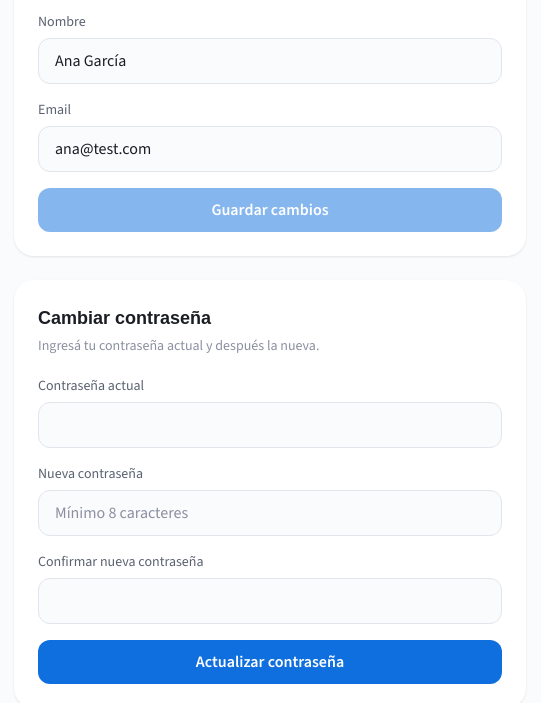
Scenario: Settings — cambiar contraseña › muestra error específico cuando la contraseña actual es incorrecta
(page scrolled)
Step 1. Type "incorrecta" into the password field labelled "Contraseña actual" → (270, 425), box [38, 402, 502, 448]
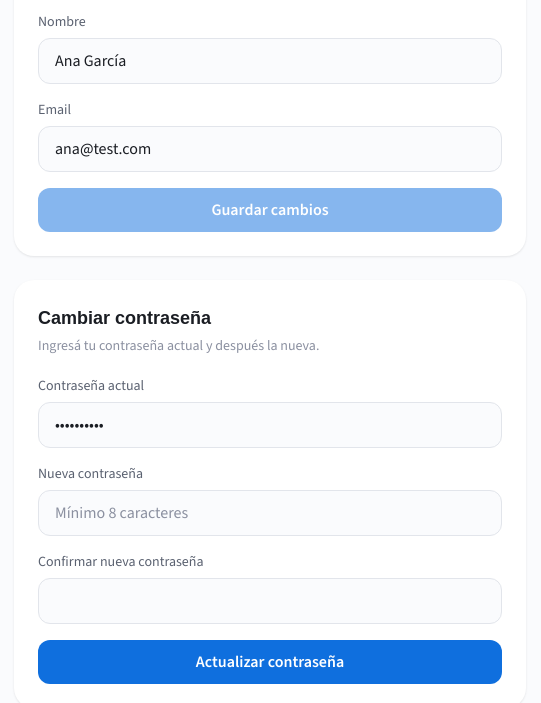
Step 2. Type "nueva12345" into the password field labelled "Nueva contraseña" → (270, 513), box [38, 490, 502, 536]
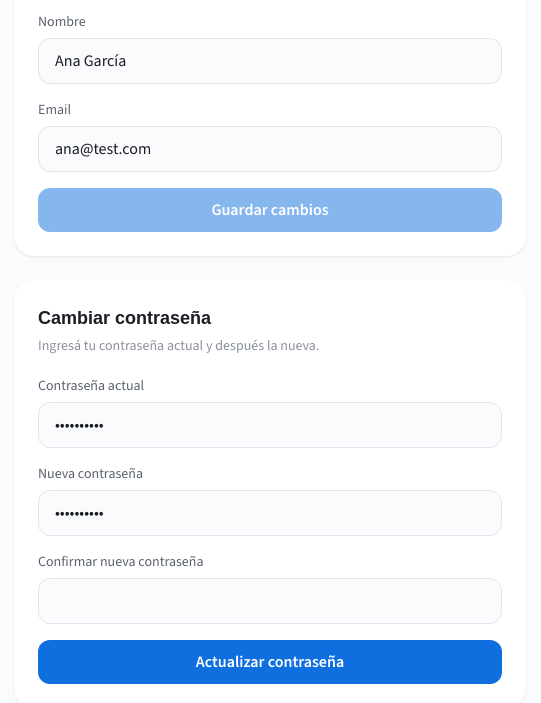
Step 3. Type "nueva12345" into the password field labelled "Confirmar nueva contraseña" → (270, 601), box [38, 578, 502, 624]
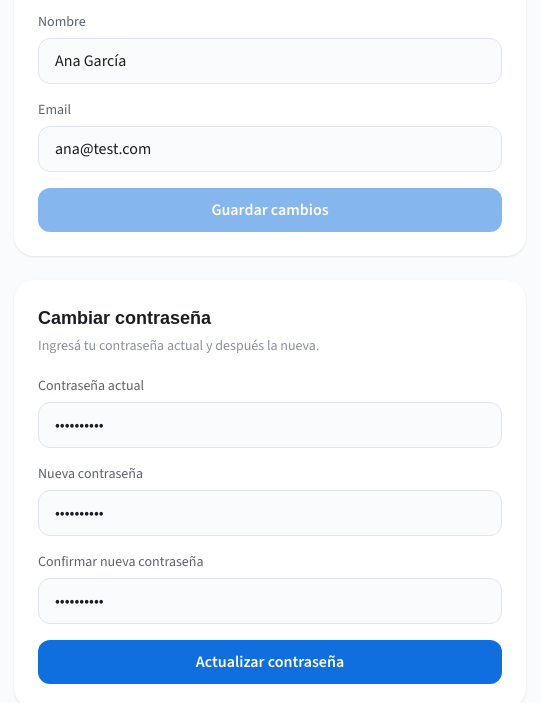
Step 4. Submit the form labelled "Nueva contraseña", box [38, 376, 502, 684]
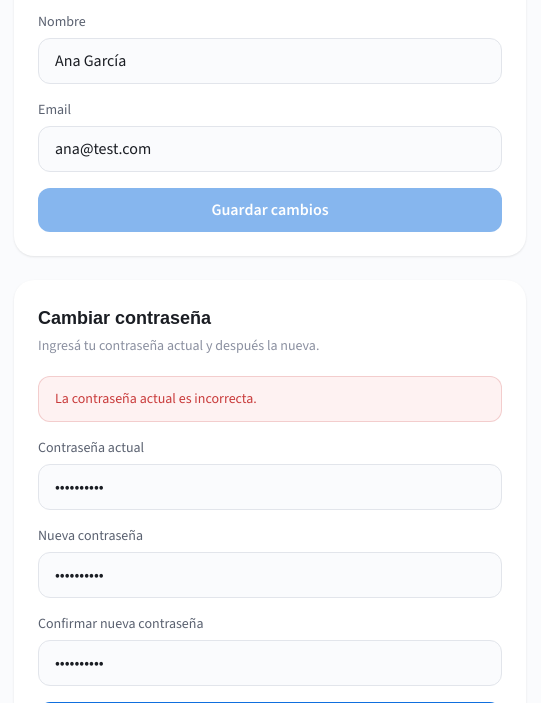
Expected: the message reads "La contraseña actual es incorrecta.", [55, 389, 257, 408]
